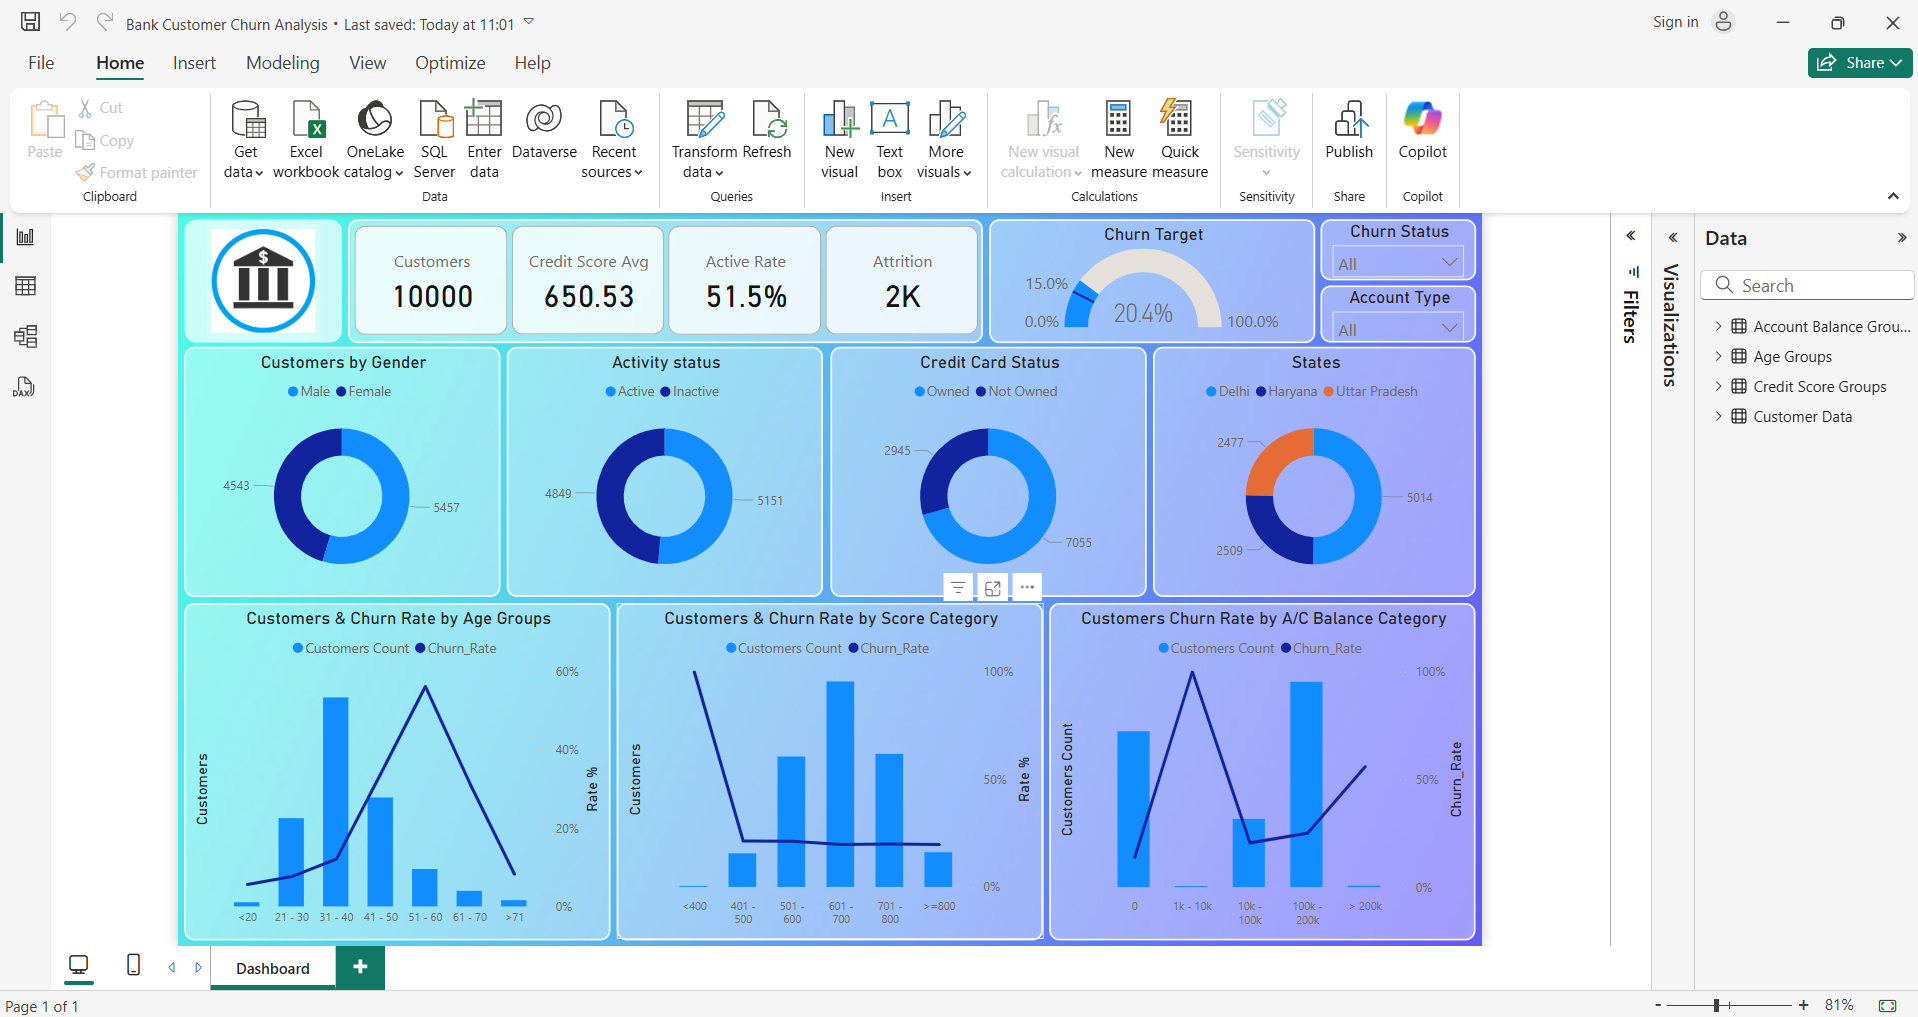

What the dashboard file says about the page in this screenshot:
{"tool":"powerbi","page":{"name":"Dashboard","canvas":[1280,720],"ordinal":0},"visuals":[{"type":"donutChart","title":"Customers by Gender","fields":{"Category":["Customer Data.Gender"],"Y":["Customer Data.Customers Count"]},"box":[6.1,131.3,310,245.4],"z":0},{"type":"donutChart","title":"Activity status","fields":{"Category":["Customer Data.Activity Status"],"Y":["Customer Data.Customers Count"]},"box":[322.9,131.4,310,245.7],"z":1000},{"type":"donutChart","title":"Credit Card Status","fields":{"Y":["Customer Data.Customers Count"],"Category":["Customer Data.Credit Card Status"]},"box":[640,131.4,310,245.7],"z":2000},{"type":"donutChart","title":"States","fields":{"Y":["Customer Data.Customers Count"],"Category":["Customer Data.State"]},"box":[957.1,131.4,317.1,245.7],"z":3000},{"type":"lineStackedColumnComboChart","title":"Customers & Churn Rate by Age Groups","fields":{"Y":["Customer Data.Customers Count"],"Y2":["Customer Data.Churn_Rate"],"Category":["Age Groups.Age Groups"]},"box":[6.1,382.8,418,331],"z":4000},{"type":"lineStackedColumnComboChart","title":"Customers & Churn Rate by Score Category","fields":{"Y":["Customer Data.Customers Count"],"Y2":["Customer Data.Churn_Rate"],"Category":["Credit Score Groups.Score Category"]},"box":[430.8,382.5,418.3,330.8],"z":5000},{"type":"lineStackedColumnComboChart","title":"Customers Churn Rate by A/C Balance Category","fields":{"Y":["Customer Data.Customers Count"],"Y2":["Customer Data.Churn_Rate"],"Category":["Account Balance Groups.Acct Balance"]},"box":[855.7,382.9,418.6,331.4],"z":6000},{"type":"slicer","title":"Churn Status","fields":{"Values":["Customer Data.Churn Status"]},"box":[1121.2,6.2,152.5,60],"z":7000},{"type":"gauge","title":"Churn Target","fields":{"Y":["Customer Data.Churn_Rate"],"MaxValue":["Max(Customer Data.Max Chrun Rate)"],"MinValue":["Min(Customer Data.Min Churn Rate)"],"TargetValue":["Max(Customer Data.Target Churn Rate)"]},"box":[795.7,5.7,320,121.4],"z":8000},{"type":"cardVisual","fields":{"Data":["CountNonNull(Customer Data.Customer ID)","Avg(Customer Data.Credit Score)","Customer Data.Active %","Customer Data.Attrition"]},"box":[167.1,5.7,623,121.4],"z":9000},{"type":"slicer","title":"Account Type","fields":{"Values":["Customer Data.Account Type"]},"box":[1121.2,71.2,152.5,56.2],"z":10000},{"type":"shape","box":[6.2,6.2,155,121.2],"z":11000},{"type":"image","box":[28.2,8.6,111.7,116.6],"z":12000}]}

Visuals, with their boxes on the page's 1280x720 design canvas (x1, y1, x2, y2). These are canvas units, not pixel positions in the 1918x1017 screenshot, which may show the page scaled, cropped or inside an application window:
"Customers by Gender" donutChart: crop(6, 131, 316, 377)
"Activity status" donutChart: crop(323, 131, 633, 377)
"Credit Card Status" donutChart: crop(640, 131, 950, 377)
"States" donutChart: crop(957, 131, 1274, 377)
"Customers & Churn Rate by Age Groups" lineStackedColumnComboChart: crop(6, 383, 424, 714)
"Customers & Churn Rate by Score Category" lineStackedColumnComboChart: crop(431, 382, 849, 713)
"Customers Churn Rate by A/C Balance Category" lineStackedColumnComboChart: crop(856, 383, 1274, 714)
"Churn Status" slicer: crop(1121, 6, 1274, 66)
"Churn Target" gauge: crop(796, 6, 1116, 127)
cardVisual - CountNonNull(Customer Data.Customer ID) x Avg(Customer Data.Credit Score): crop(167, 6, 790, 127)
"Account Type" slicer: crop(1121, 71, 1274, 127)
shape: crop(6, 6, 161, 127)
image: crop(28, 9, 140, 125)
